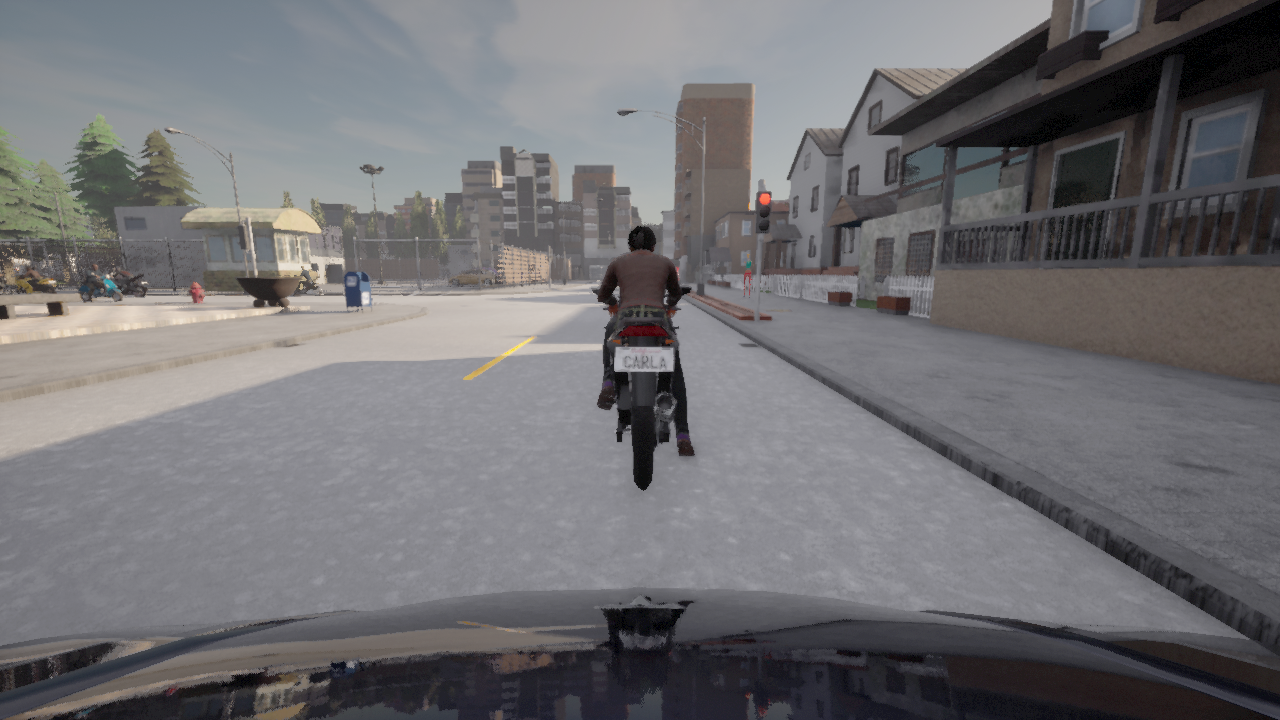cyclist: (0, 588, 1279, 719), (591, 286, 691, 489), (78, 273, 122, 301), (102, 273, 147, 296), (289, 273, 323, 297), (16, 274, 56, 294), (449, 269, 499, 285), (0, 275, 20, 294), (480, 268, 502, 284), (493, 266, 510, 283), (514, 272, 531, 281), (515, 268, 545, 273), (56, 273, 78, 278), (531, 272, 540, 281), (53, 272, 63, 278)
pedestrian: (741, 253, 753, 298)
